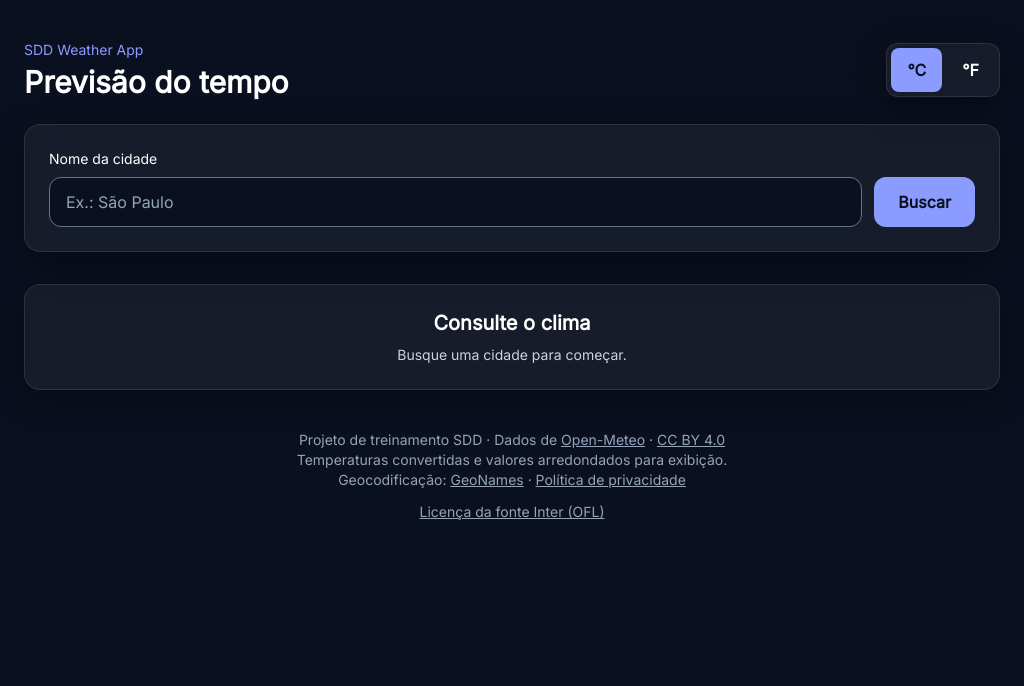
Test: App integrado ao hook › não mantém dados anteriores quando uma nova busca falha após um sucesso
Type "São Paulo" into the search field at [456, 202], box [49,177,862,227]
Then press Enter
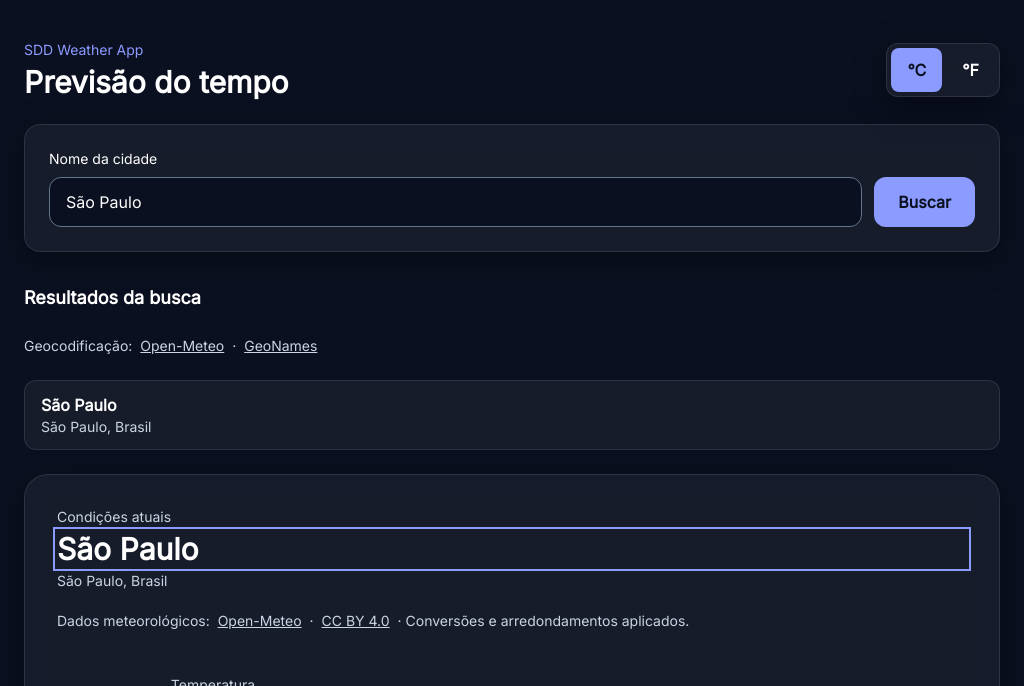
Replace the text in the search field with "Recife" at [456, 202], box [49,177,862,227]
Then press Enter
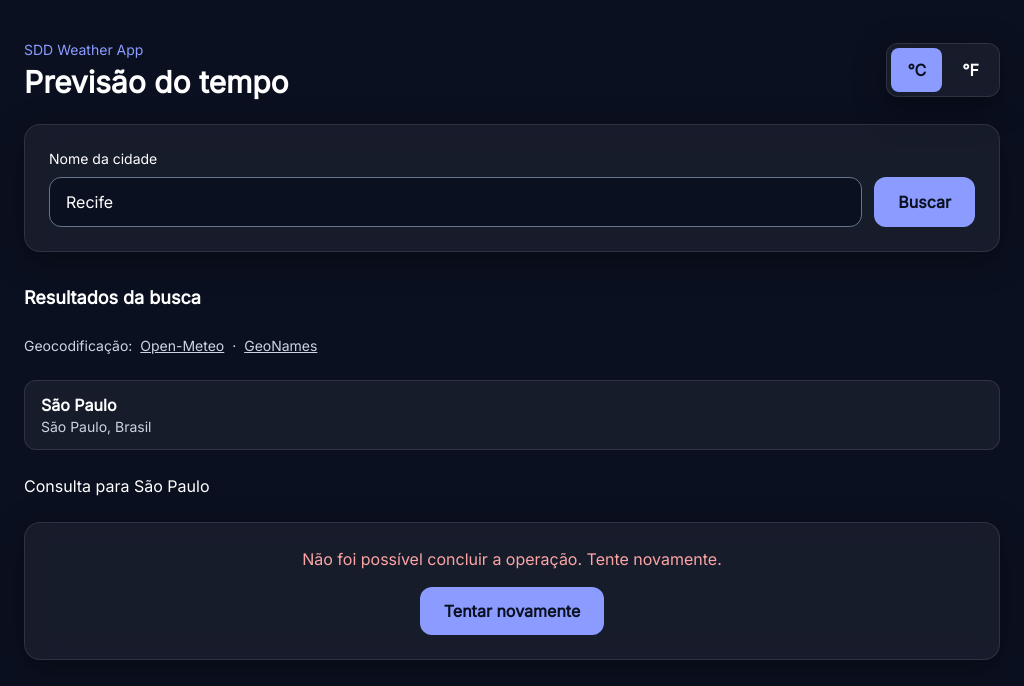
Expected: the message reads "Não foi possível concluir a operação. Tente novamente.", [302,549,722,569]
Expected: the button "Tentar novamente" is enabled, [420,587,604,635]
